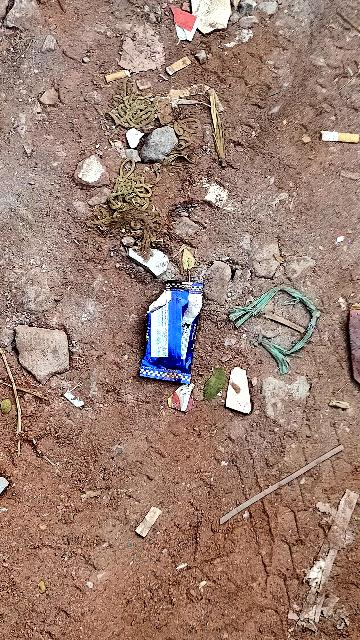packet: (135, 277, 218, 380)
